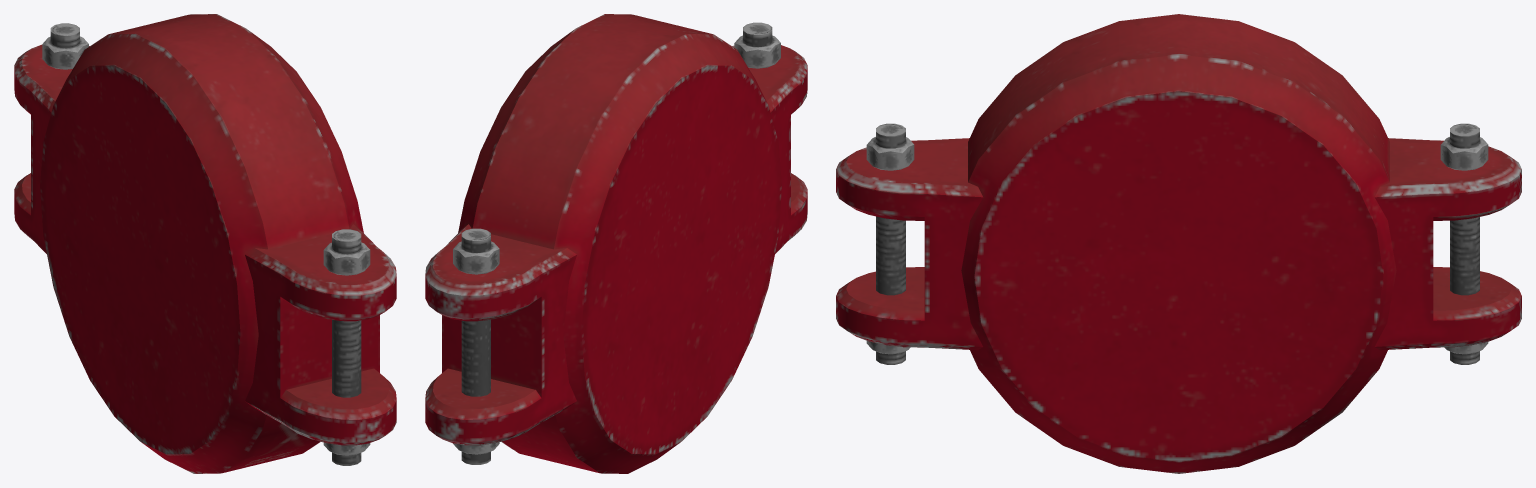
File: SM_Pipe_Bracket_01a.fbx
3 views of the same model, side by side, from view 1: azimuth 30°, elevation 25°; view 2: azimuth 150°, elevation 25°; view 3: azimuth 270°, elevation 25° (orthographic). The views are drawn at different scales.
Visible parts, largest first — view 1: SM_Pipe_Bracket_01a; view 2: SM_Pipe_Bracket_01a; view 3: SM_Pipe_Bracket_01a.
Boxes of the visible parts, x1,y1,x2,y2 form: SM_Pipe_Bracket_01a: (14,14,396,473); SM_Pipe_Bracket_01a: (425,14,807,473); SM_Pipe_Bracket_01a: (836,14,1521,473).
Size of the model in its own units: 6.12 by 27.31 by 18.43.
1 material, 1 textured.
